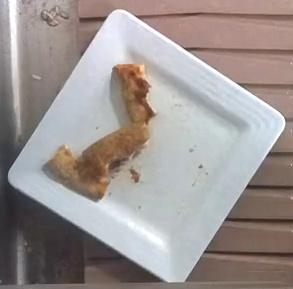pizza_crust: (48, 63, 154, 198)
